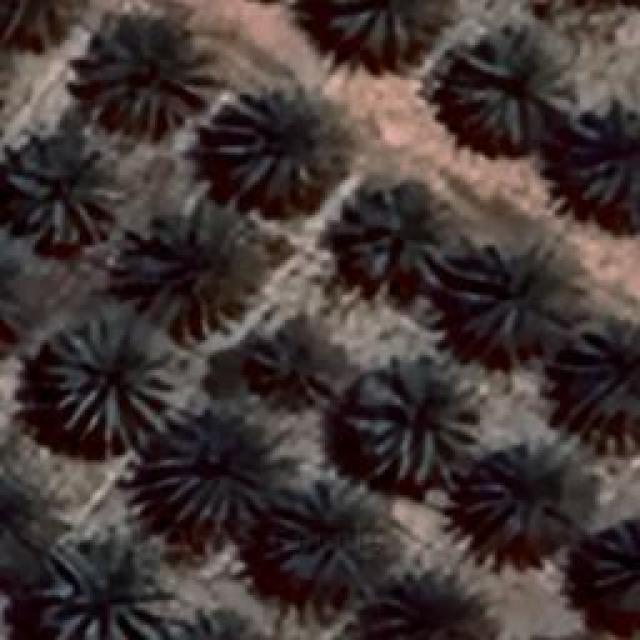PalmTree: (42, 310, 180, 448), (128, 202, 262, 340), (348, 352, 482, 486), (208, 82, 342, 210), (75, 18, 220, 132), (450, 24, 580, 148), (330, 177, 468, 285), (7, 135, 125, 245), (272, 475, 390, 580), (450, 240, 570, 342), (150, 422, 265, 528), (42, 542, 162, 638), (462, 437, 576, 535), (555, 312, 635, 438), (368, 572, 486, 640), (568, 100, 638, 210), (320, 0, 448, 55), (256, 321, 339, 404), (0, 460, 52, 578), (0, 238, 52, 356), (590, 518, 638, 600), (0, 0, 80, 48), (164, 607, 263, 640)
